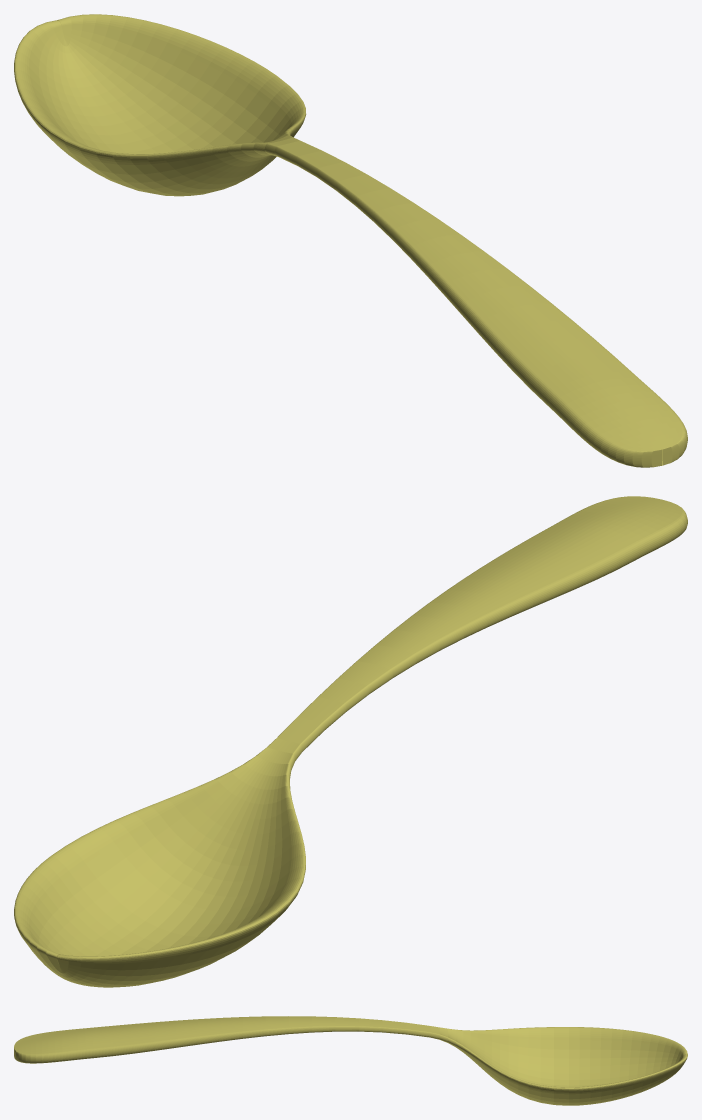
Rendered from Spoon.gltf.
The picture shows the model from 3 angles, top to bottom: view 1: azimuth 30°, elevation 25°; view 2: azimuth 150°, elevation 25°; view 3: azimuth 270°, elevation 25°; orthographic projection. The views are drawn at different scales.
Parts seen in each view (by area): view 1: Spoon; view 2: Spoon; view 3: Spoon.
Part boxes in pixels (left/top/right/bottom): Spoon: left=14, top=14, right=687, bottom=467; Spoon: left=14, top=496, right=687, bottom=987; Spoon: left=14, top=1016, right=687, bottom=1105.
Bounding box in the file's own units: 0.264 × 0.155 × 1.21.
